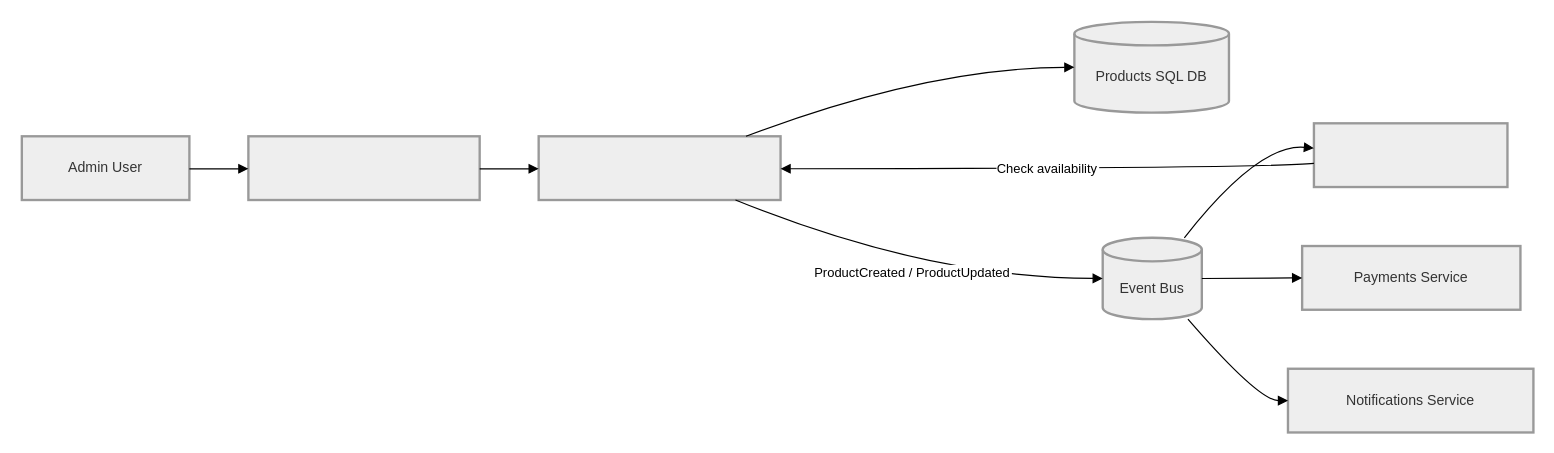
This 1554x453 diagram has some shape labels left out. The shapes that lost their labels are listed below. From the top down, each one's box as (x1, y1, x2, y2) in pixels, then its label:
(247, 135, 480, 201): React Admin Portal
(537, 135, 781, 201): Products Service API
(1312, 122, 1508, 188): Orders Service
